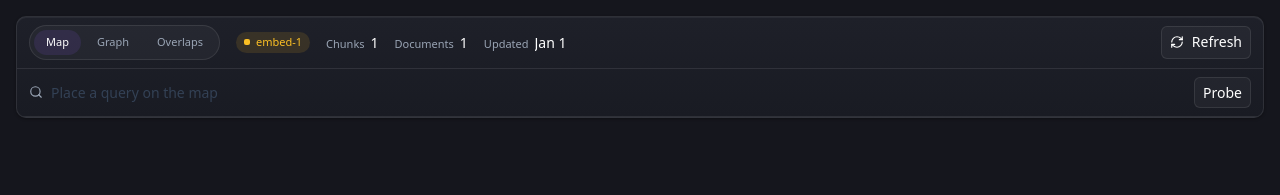
Test case: CollectionInsights › serves the map by default and switches to the overlap report
Expected: the element named "Insight view" is shown, [29,25,220,60]
Click the button "Overlaps" at (180, 42), box [145,30,215,54]
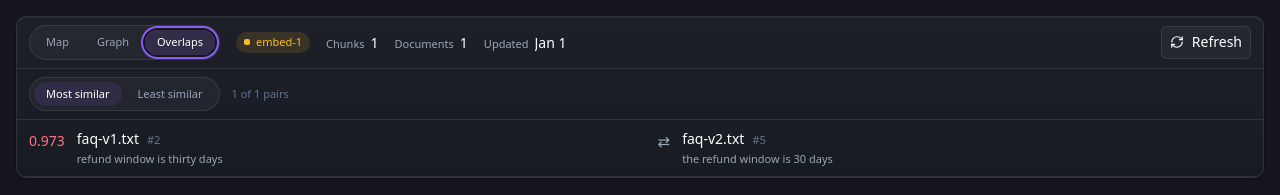
Expected: the text "faq-v1.txt" is shown, [77,128,139,149]
Expected: the text "faq-v2.txt" is shown, [682,128,744,149]
Expected: the text "0.973" is shown, [29,128,65,151]
